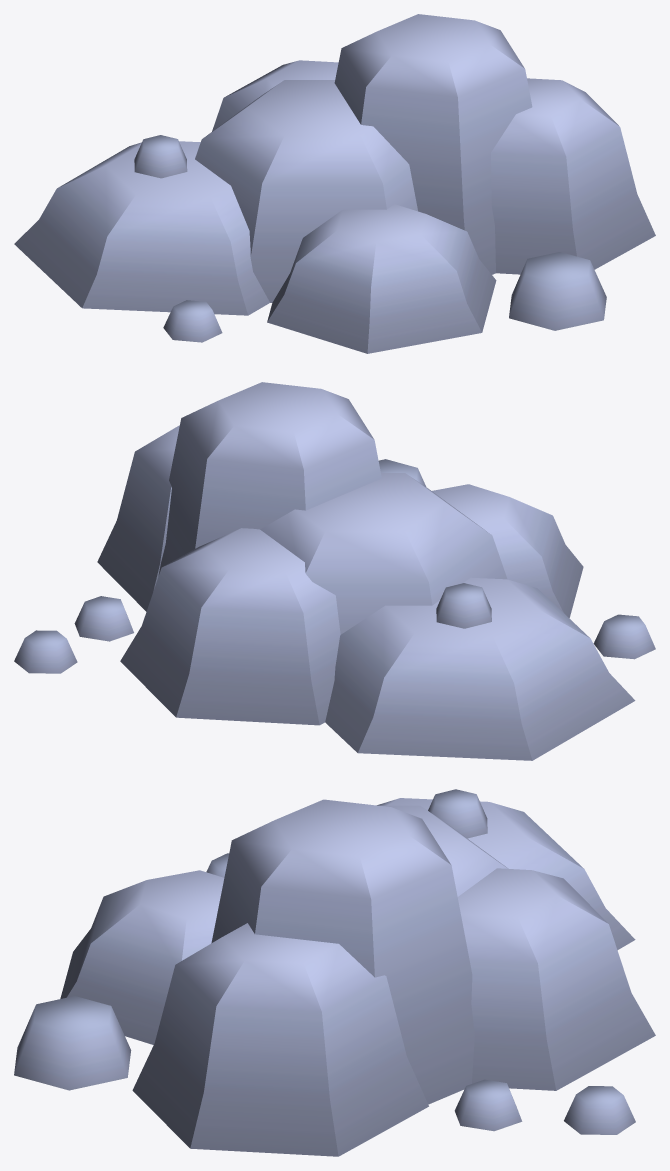
File: rocks.glb
3 renders of one model, top to bottom at view 1: azimuth 30°, elevation 25°; view 2: azimuth 150°, elevation 25°; view 3: azimuth 270°, elevation 25°, orthographic. The views are drawn at different scales.
Parts seen in each view (by area): view 1: rocks; view 2: rocks; view 3: rocks.
Boxes of the visible parts, <box> form: rocks: <box>14,14,655,353</box>; rocks: <box>14,382,655,760</box>; rocks: <box>14,789,655,1156</box>.
Size of the model in its own units: 1.08 by 0.3775 by 0.9644.
1 material, 1 textured.
